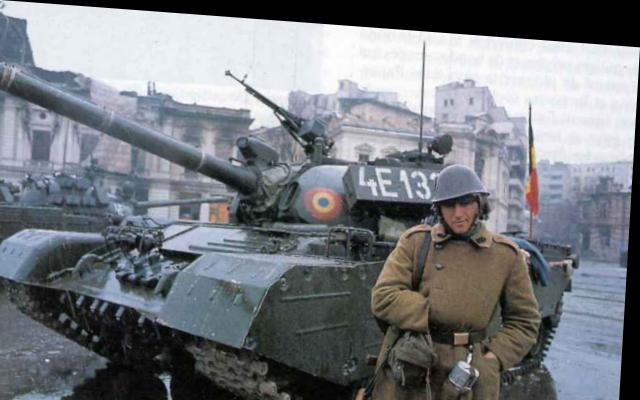other: (371, 154, 550, 398)
tank: (0, 110, 577, 398), (0, 164, 136, 227)
